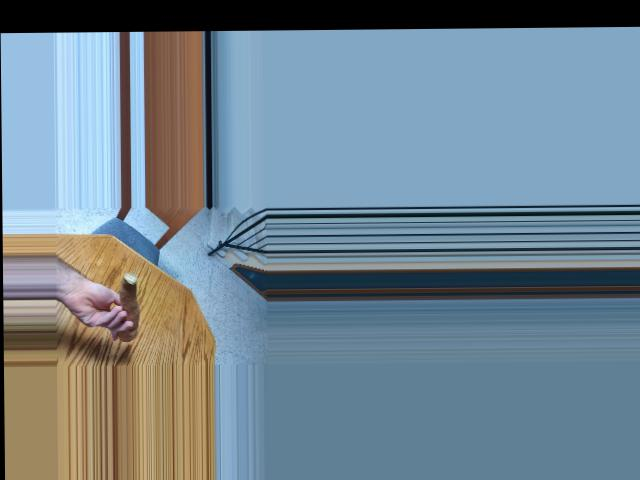sweet_potato: (111, 271, 140, 342)
